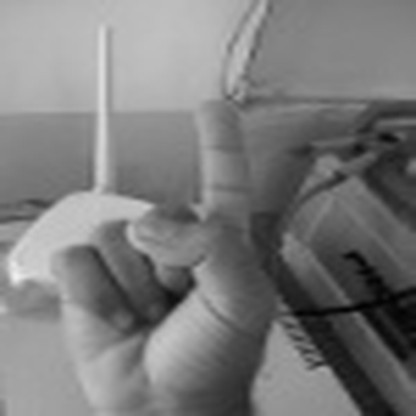d: (48, 91, 260, 415)
